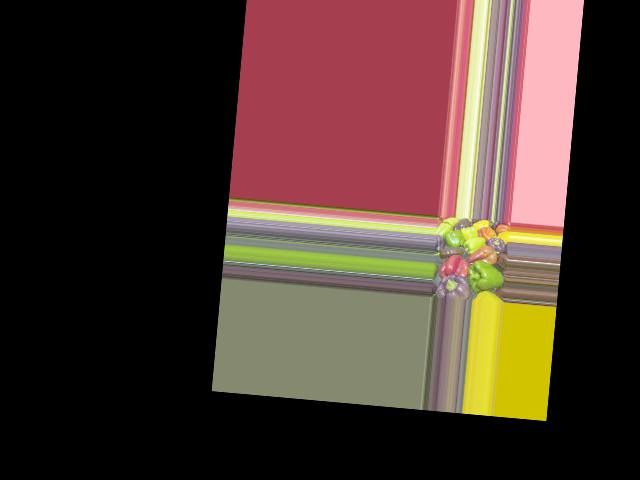bell_pepper: (486, 234, 507, 253)
